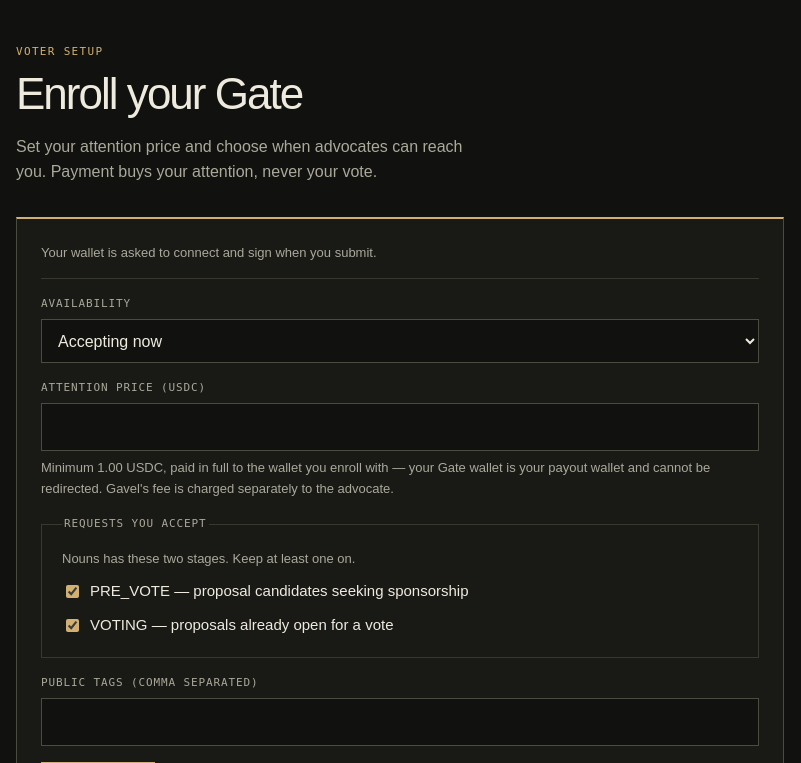
Test: Enrollment › refuses to enroll a Gate that accepts neither stage, before touching the wallet
The width and height of the screenshot is (801, 763).
Step 1. Type "5.00" into the field labelled "Attention price (USDC)" → x=400, y=427, box [41, 403, 759, 452]
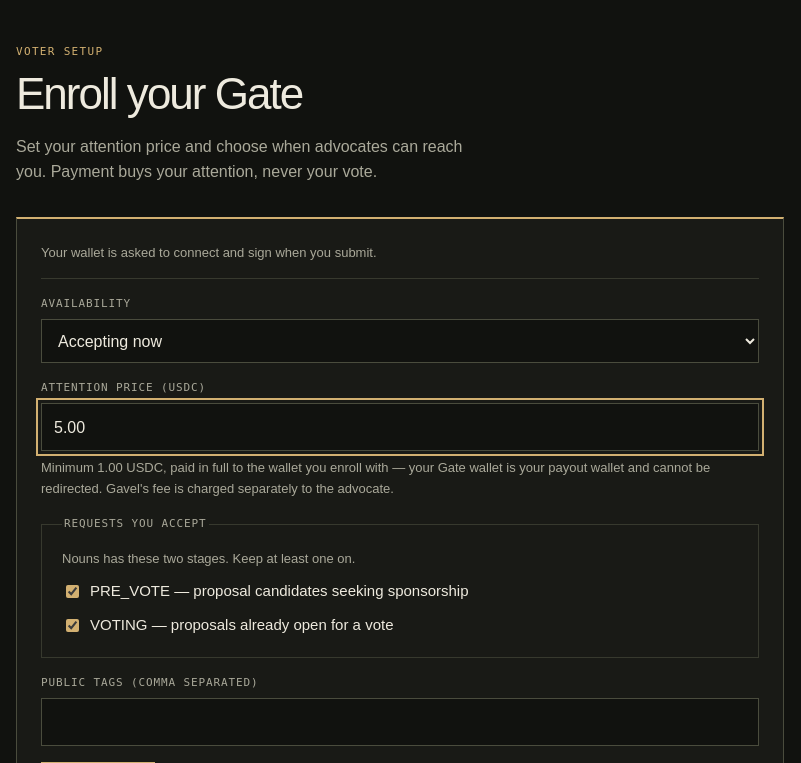
Step 2. Click the checkbox labelled "PRE_VOTE — proposal candidates seeking sponsorship" → x=72, y=592, box [66, 585, 79, 598]
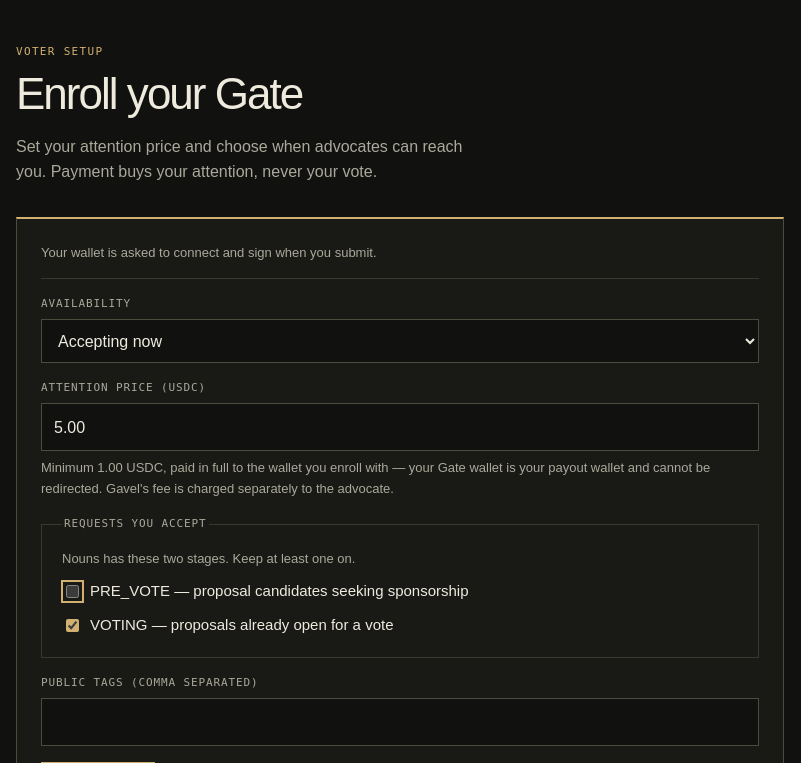
Step 3. Click the checkbox labelled "VOTING — proposals already open for a vote" → x=72, y=625, box [66, 618, 79, 632]
(page scrolled)
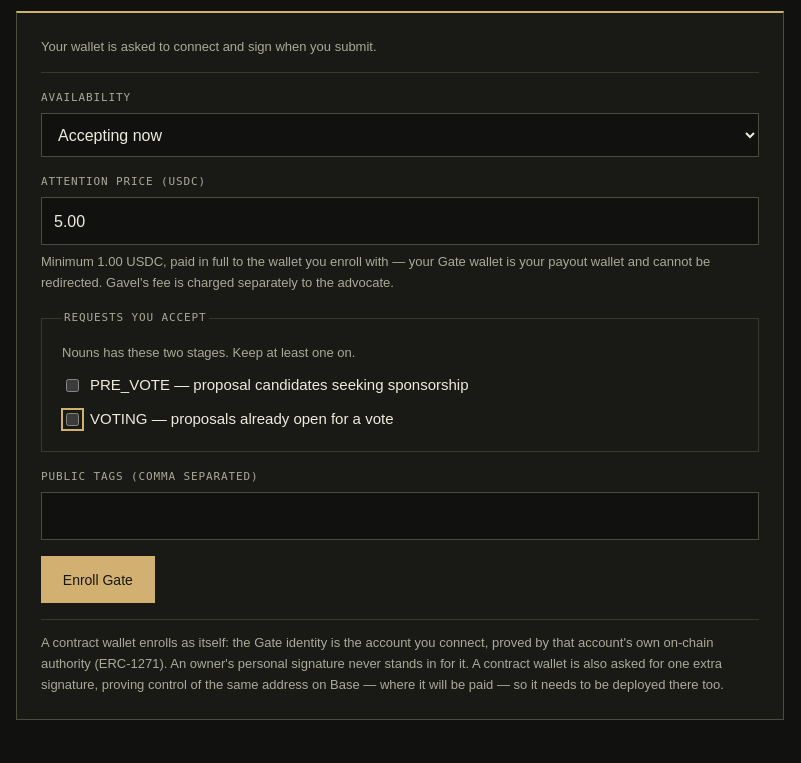
Step 4. Click the button "Enroll Gate" → x=98, y=580, box [41, 556, 155, 603]
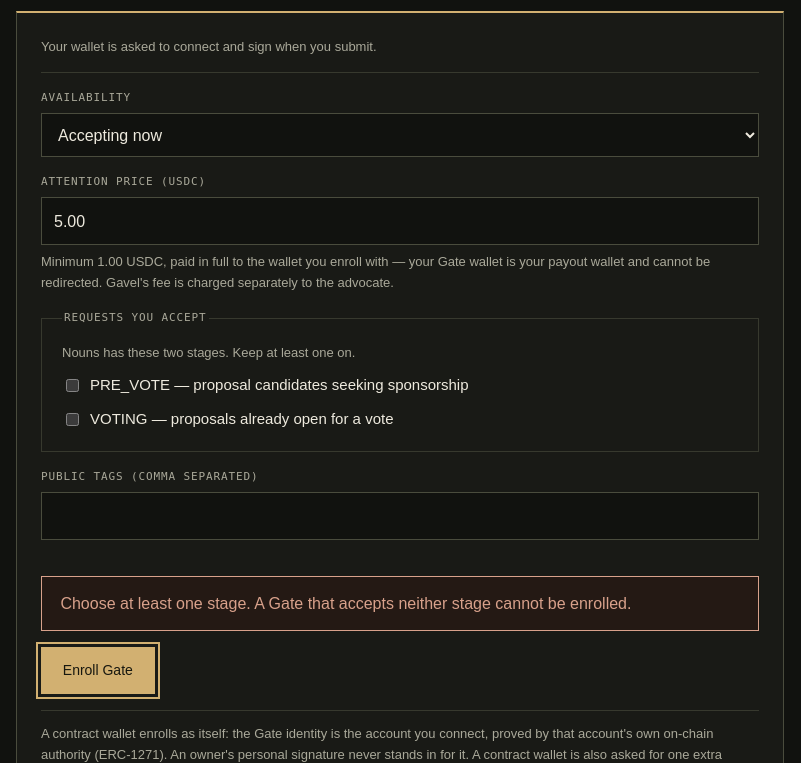
Expected: the message shows "at least one stage", [60, 595, 632, 612]
